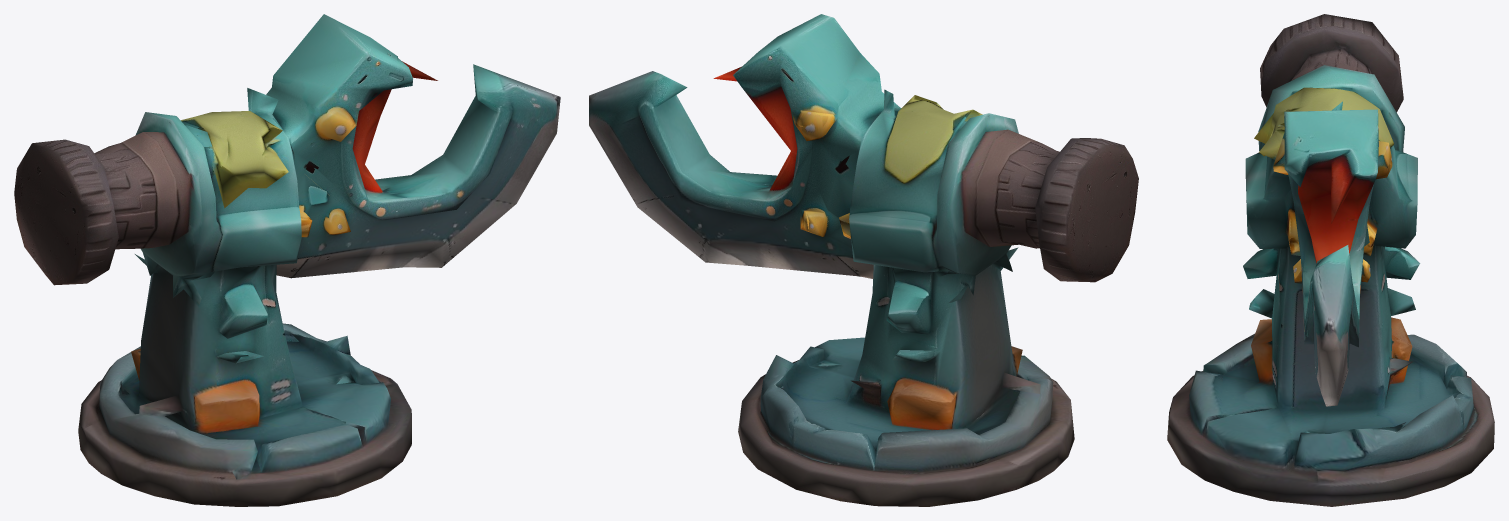
Rendered from weapon_bloody_vorpal_tertiary_1500_raw.glb.
3 views of the same model, side by side, from view 1: azimuth 30°, elevation 25°; view 2: azimuth 150°, elevation 25°; view 3: azimuth 270°, elevation 25° (orthographic).
Visible parts, largest first — view 1: tripo_node_b9edf5a2-42f3-4944-9488-70b293eb9b69; view 2: tripo_node_b9edf5a2-42f3-4944-9488-70b293eb9b69; view 3: tripo_node_b9edf5a2-42f3-4944-9488-70b293eb9b69.
Part boxes in pixels (x1,y1,x2,y2): tripo_node_b9edf5a2-42f3-4944-9488-70b293eb9b69: [14, 14, 560, 506]; tripo_node_b9edf5a2-42f3-4944-9488-70b293eb9b69: [589, 14, 1138, 506]; tripo_node_b9edf5a2-42f3-4944-9488-70b293eb9b69: [1167, 14, 1494, 506].
Bounding box in the file's own units: 0.9815 × 0.695 × 0.5497.
Materials: 1 (1 with a texture image).
